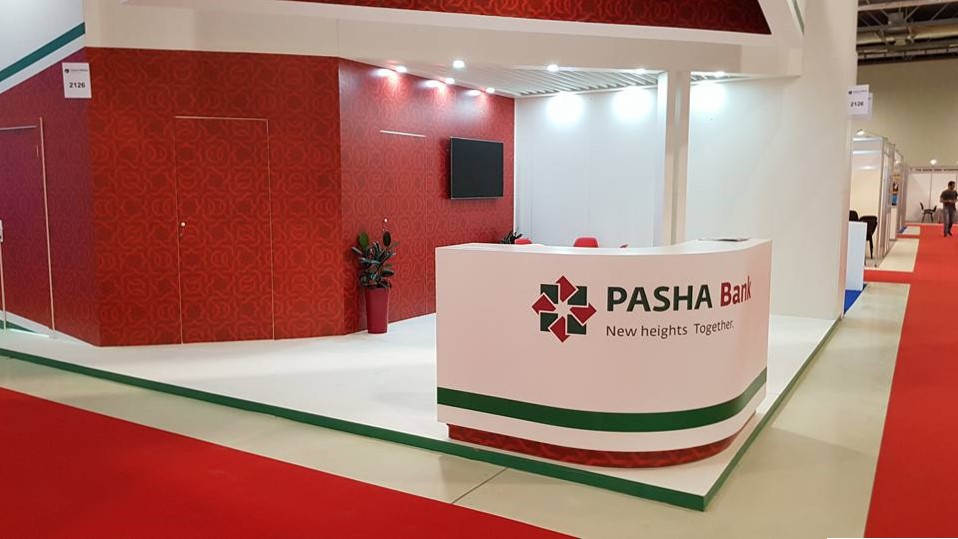Pasha Bank: (530, 272, 598, 343)
